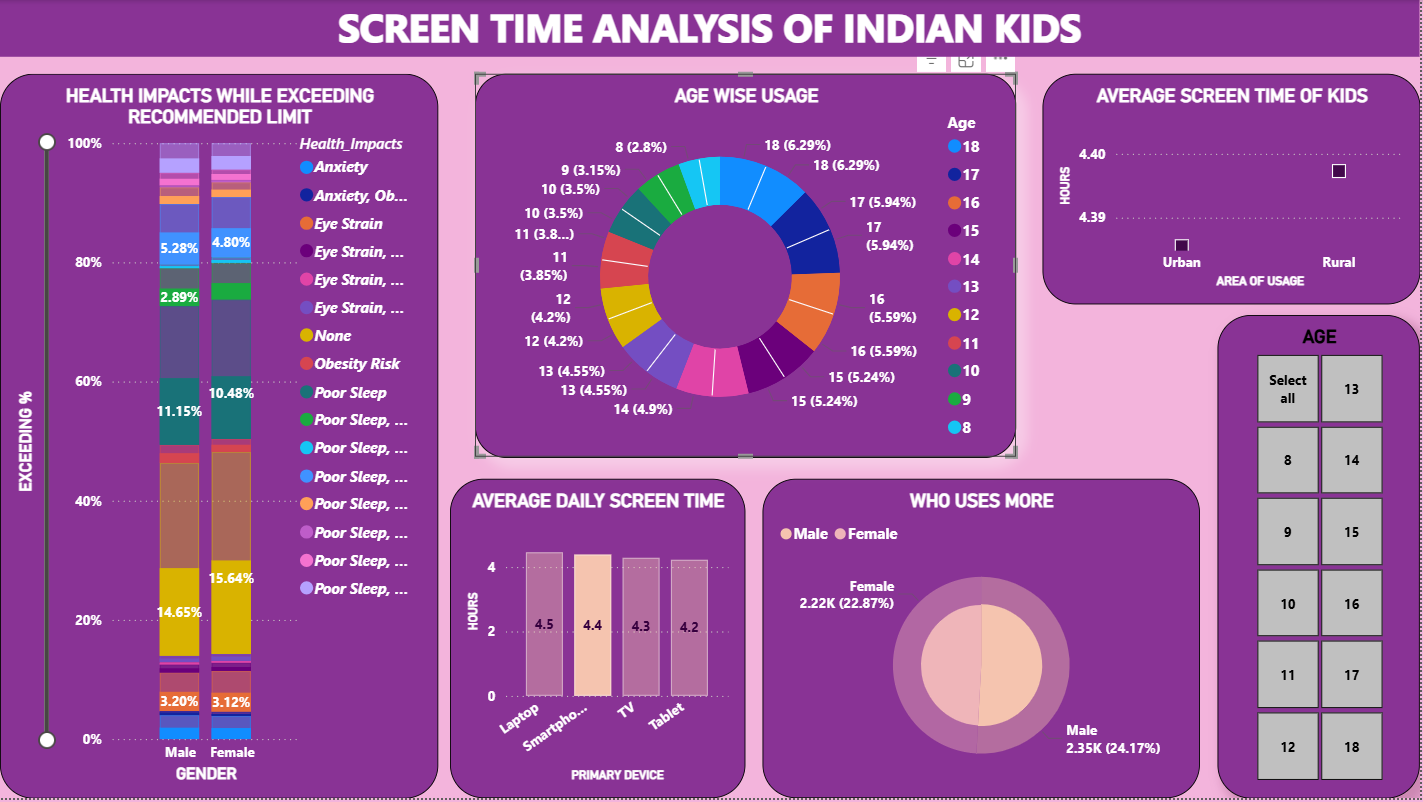

Layout of this report page (visuals, bound fields, positions):
{"tool":"powerbi","page":{"name":"Page 1","canvas":[1280,720],"ordinal":0},"visuals":[{"type":"columnChart","title":"AVERAGE DAILY SCREEN TIME ","fields":{"Category":["Indian_Kids_Screen_Time.Primary_Device"],"Y":["Avg(Indian_Kids_Screen_Time.Avg_Daily_Screen_Time_hr)"]},"box":[405.8,431.4,266.3,288.4],"z":0},{"type":"pieChart","title":"WHO USES MORE","fields":{"Y":["CountNonNull(Indian_Kids_Screen_Time.Gender)"],"Series":["Indian_Kids_Screen_Time.Gender"],"Category":["Indian_Kids_Screen_Time.Gender"]},"box":[687.2,431.4,394.2,288.4],"z":1000},{"type":"actionButton","box":[0,0,100,40],"z":2000},{"type":"donutChart","title":"AGE WISE USAGE","fields":{"Y":["Max(Indian_Kids_Screen_Time.Age)"],"Series":["Indian_Kids_Screen_Time.Gender"],"Category":["Indian_Kids_Screen_Time.Age"]},"box":[427.9,66.3,488.4,346.5],"z":4000},{"type":"scatterChart","title":"AVERAGE SCREEN TIME OF KIDS","fields":{"X":["Indian_Kids_Screen_Time.Urban_or_Rural"],"Y":["Avg(Indian_Kids_Screen_Time.Avg_Daily_Screen_Time_hr)"]},"box":[939.5,66.3,340.7,208.1],"z":5000},{"type":"slicer","title":"AGE","fields":{"Values":["Indian_Kids_Screen_Time.Age"]},"box":[1097.7,283.7,182.6,436],"z":6000},{"type":"textbox","title":"SCREEN TIME ANALYSIS OF INDIAN KIDS","box":[0,0,1280,51],"z":7000},{"type":"hundredPercentStackedColumnChart","title":"HEALTH IMPACTS WHILE EXCEEDING RECOMMENDED LIMIT","fields":{"Y":["CountNonNull(Indian_Kids_Screen_Time.Exceeded_Recommended_Limit)"],"Category":["Indian_Kids_Screen_Time.Gender"],"Series":["Indian_Kids_Screen_Time.Health_Impacts"]},"box":[0,66.3,395.3,653.5],"z":7001}]}

Visuals, with their boxes in screenshot pixels (x1, y1, x2, y2), scaled from the page's 1280x720 canvas onto the 1423x802 screenshot:
"AVERAGE DAILY SCREEN TIME " columnChart: 451,481,747,801
"WHO USES MORE" pieChart: 764,481,1202,801
actionButton: 0,0,111,45
"AGE WISE USAGE" donutChart: 476,74,1019,460
"AVERAGE SCREEN TIME OF KIDS" scatterChart: 1044,74,1422,306
"AGE" slicer: 1220,316,1422,801
"SCREEN TIME ANALYSIS OF INDIAN KIDS" textbox: 0,0,1422,57
"HEALTH IMPACTS WHILE EXCEEDING RECOMMENDED LIMIT" hundredPercentStackedColumnChart: 0,74,439,801
